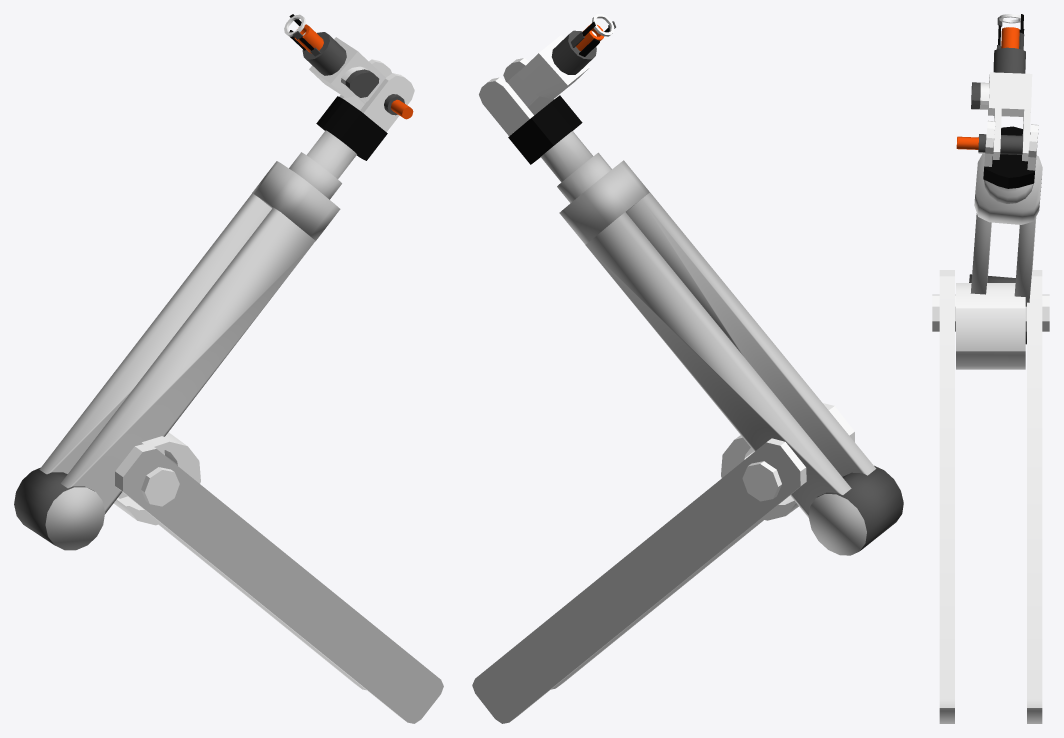
File: Brazo.obj
The picture shows the model from 3 angles, left to right: view 1: azimuth 30°, elevation 25°; view 2: azimuth 150°, elevation 25°; view 3: azimuth 270°, elevation 25°; orthographic projection. The views are drawn at different scales.
Visible parts, largest first — view 1: Brazo_SpacialRoverExploreralumArm, Brazo_SpacialRoverExploreralumWhite, Brazo_SpacialRoverExploreralumGray, Brazo_SpacialRoverExploreralumBlack, Brazo_SpacialRoverExploreralumOrange; view 2: Brazo_SpacialRoverExploreralumArm, Brazo_SpacialRoverExploreralumWhite, Brazo_SpacialRoverExploreralumGray, Brazo_SpacialRoverExploreralumBlack; view 3: Brazo_SpacialRoverExploreralumWhite, Brazo_SpacialRoverExploreralumArm, Brazo_SpacialRoverExploreralumGray, Brazo_SpacialRoverExploreralumBlack, Brazo_SpacialRoverExploreralumOrange.
Boxes of the visible parts, x1,y1,x2,y2 form: Brazo_SpacialRoverExploreralumArm: (39,130,443,723); Brazo_SpacialRoverExploreralumWhite: (113,14,414,720); Brazo_SpacialRoverExploreralumGray: (14,31,404,544); Brazo_SpacialRoverExploreralumBlack: (289,14,387,160); Brazo_SpacialRoverExploreralumOrange: (294,24,413,119); Brazo_SpacialRoverExploreralumArm: (472,131,876,723); Brazo_SpacialRoverExploreralumWhite: (479,14,854,720); Brazo_SpacialRoverExploreralumGray: (551,21,903,550); Brazo_SpacialRoverExploreralumBlack: (508,21,609,164); Brazo_SpacialRoverExploreralumWhite: (932,14,1049,723); Brazo_SpacialRoverExploreralumArm: (970,153,1042,306); Brazo_SpacialRoverExploreralumGray: (969,17,1026,344); Brazo_SpacialRoverExploreralumBlack: (983,14,1034,188); Brazo_SpacialRoverExploreralumOrange: (956,27,1019,149).
Bounding box in the file's own units: 3.93 × 6.86 × 1.08.
